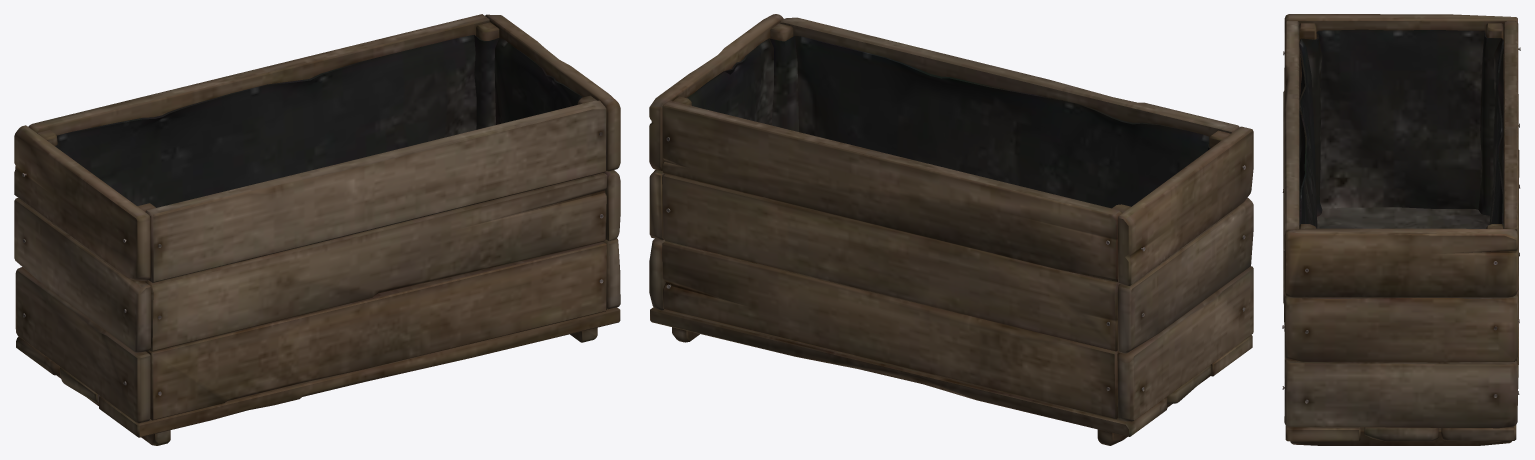
File: planter_box_01.glb
3 views of the same model, side by side, from view 1: azimuth 30°, elevation 25°; view 2: azimuth 150°, elevation 25°; view 3: azimuth 270°, elevation 25° (orthographic). The views are drawn at different scales.
Visible parts, largest first — view 1: planter_box_01_lod0; view 2: planter_box_01_lod0; view 3: planter_box_01_lod0.
Boxes of the visible parts, x1,y1,x2,y2 form: planter_box_01_lod0: (14, 14, 620, 445); planter_box_01_lod0: (649, 14, 1253, 445); planter_box_01_lod0: (1282, 14, 1520, 445).
Size of what is drawn, in the model's own units: 0.9126 by 0.425 by 0.4137.
Materials: 1 (1 with a texture image).
